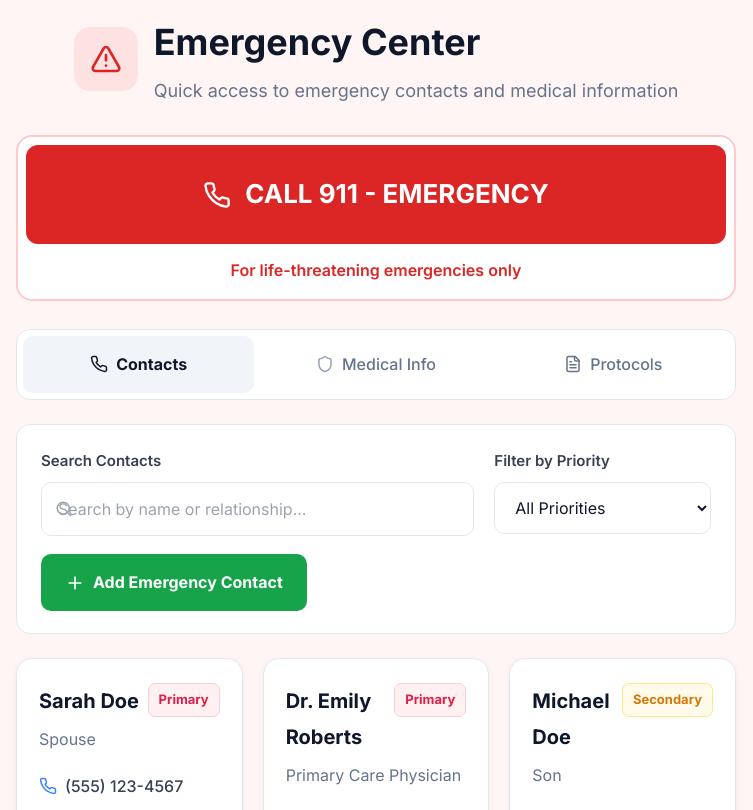
it: EmergencyPage › switches to protocols tab
This screenshot has width=753, height=810.
What coordinates should you click on to do the following:
click the button "Protocols"
I would click on:
 (613, 364)
Its box is [498,336,729,393].
(page scrolled)
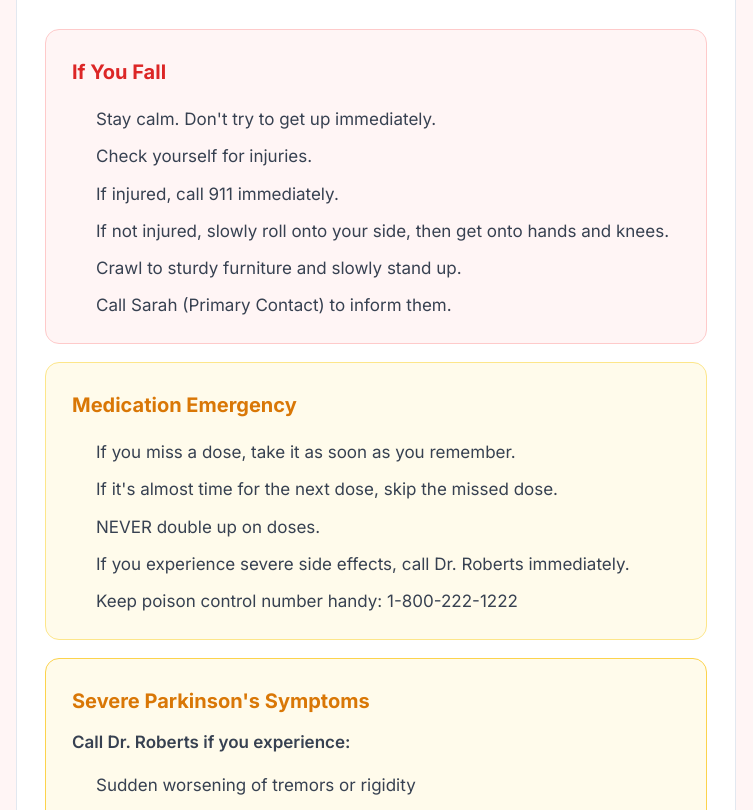
Expected: the text "If You Fall" is shown, [72,60,166,84]
Expected: the text "Medication Emergency" is shown, [72,393,297,417]
